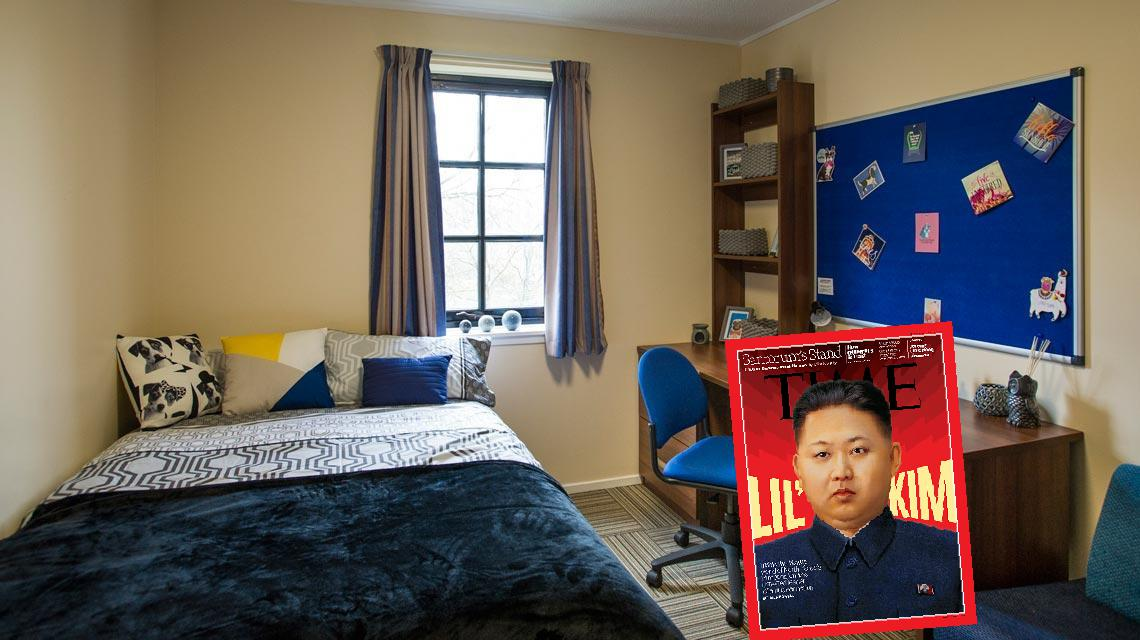times: (724, 320, 984, 639)
